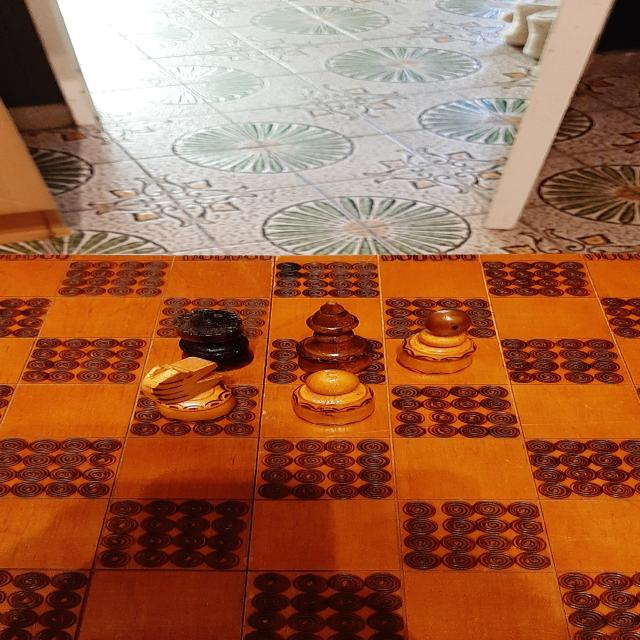black-queen: (295, 300, 374, 374)
black-rook: (172, 308, 255, 366)
white-bishop: (396, 310, 478, 375)
white-knight: (140, 356, 238, 424)
white-pawn: (291, 369, 375, 426)
